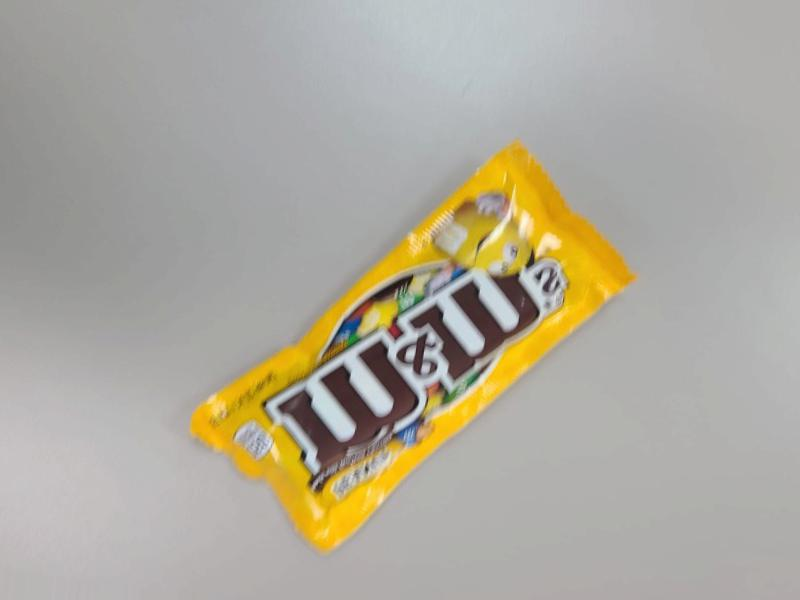m&m: (264, 130, 633, 593)
